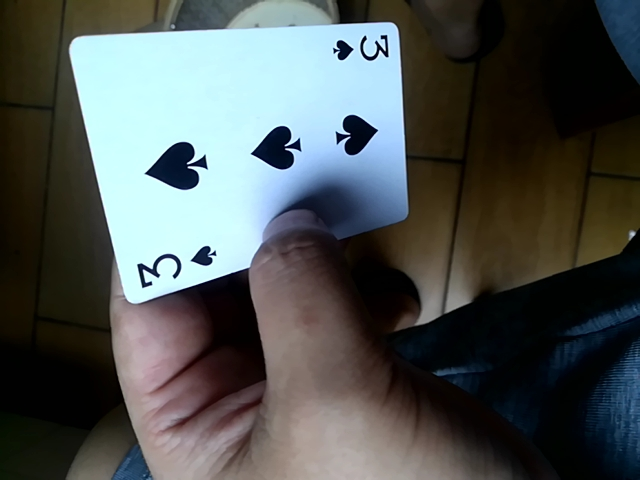ht 3: (72, 23, 404, 308)
